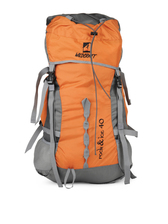bag: (27, 12, 143, 187)
